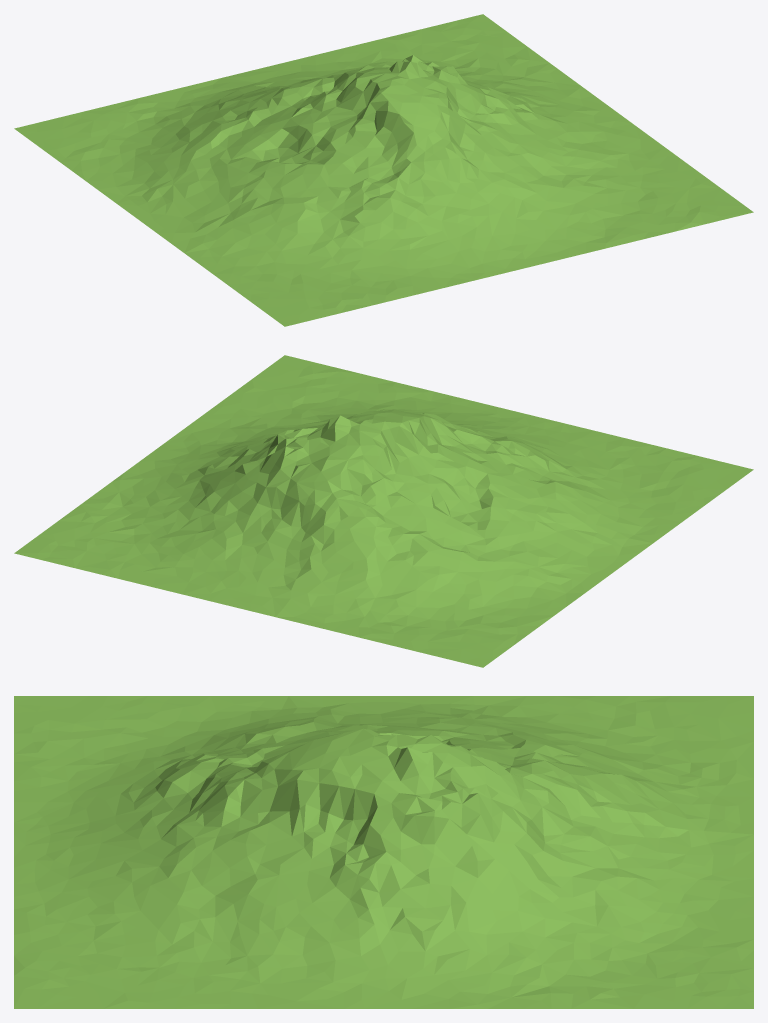
The model's file is MT_Terrain_L_a_48.fbx.
3 views of the same model, one above another, from view 1: azimuth 30°, elevation 25°; view 2: azimuth 150°, elevation 25°; view 3: azimuth 270°, elevation 25° (orthographic). The views are drawn at different scales.
Parts seen in each view (by area): view 1: MT_Terrain_L_a_48; view 2: MT_Terrain_L_a_48; view 3: MT_Terrain_L_a_48.
Part boxes in pixels (x1,y1,x2,y2): MT_Terrain_L_a_48: [14, 14, 753, 326]; MT_Terrain_L_a_48: [14, 355, 753, 667]; MT_Terrain_L_a_48: [14, 696, 753, 1008].
Bounding box in the file's own units: 10000 × 1921 × 10000.
